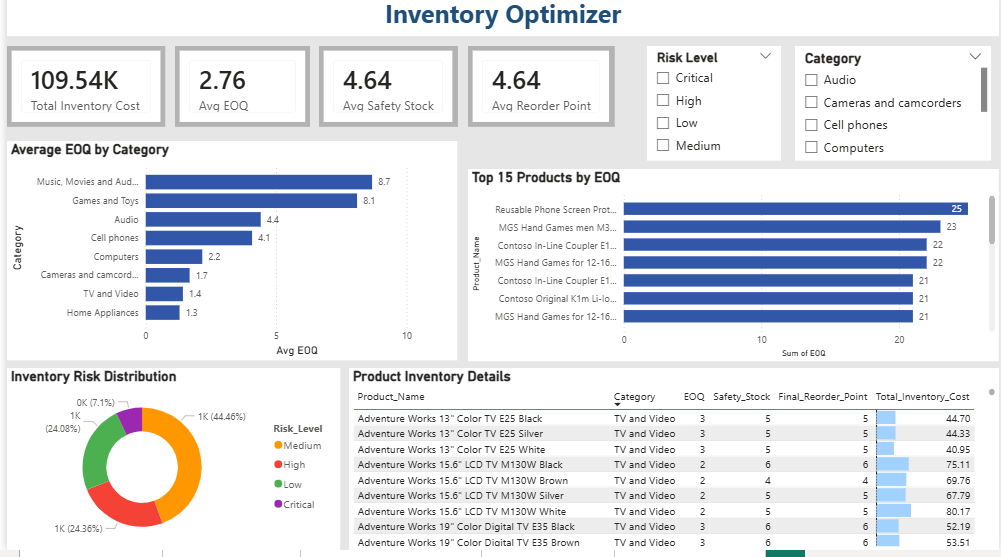

The page's visual inventory and layout, read from the dashboard file:
{"tool":"powerbi","page":{"name":"Inventory Optimizer","canvas":[1280,720],"ordinal":4},"visuals":[{"type":"textbox","box":[0,0,1280,57.1],"z":0},{"type":"cardVisual","fields":{"Data":["_Measures.Total Inventory Cost"]},"box":[0,70,204.3,104.3],"z":1000},{"type":"cardVisual","fields":{"Data":["_Measures.Avg EOQ"]},"box":[217.1,70,174.3,104.3],"z":2000},{"type":"cardVisual","fields":{"Data":["_Measures.Avg Safety Stock"]},"box":[402.9,70,178.6,104.3],"z":3000},{"type":"cardVisual","fields":{"Data":["_Measures.Avg Reorder Point"]},"box":[594.3,70,188.6,104.3],"z":4000},{"type":"clusteredBarChart","title":"Average EOQ by Category","fields":{"Y":["_Measures.Avg EOQ"],"Category":["inventory_optimizer.Category"]},"box":[0,192.9,581.4,282.9],"z":5000},{"type":"donutChart","title":"Inventory Risk Distribution","fields":{"Category":["inventory_optimizer.Risk_Level"],"Y":["_Measures.Product Count"]},"box":[0,485.2,429.7,234.8],"z":6000},{"type":"clusteredBarChart","title":"Top 15 Products by EOQ","fields":{"Category":["inventory_optimizer.Product_Name"],"Y":["Sum(inventory_optimizer.EOQ)"]},"box":[594.8,218.1,685.2,258.1],"z":7000},{"type":"tableEx","title":"Product Inventory Details","fields":{"Values":["inventory_optimizer.Product_Name","inventory_optimizer.Category","inventory_optimizer.EOQ","inventory_optimizer.Safety_Stock","inventory_optimizer.Final_Reorder_Point","inventory_optimizer.Total_Inventory_Cost"]},"box":[441.3,485.2,838.7,234.8],"z":8000},{"type":"slicer","fields":{"Values":["inventory_optimizer.Category"]},"box":[1004.9,69.4,233.9,138.9],"z":9000},{"type":"slicer","fields":{"Values":["inventory_optimizer.Risk_Level"]},"box":[806.5,69.4,172.9,138.9],"z":10000}]}

Visuals, with their boxes in screenshot pixels (x1, y1, x2, y2), scaled from the page's 1280x720 canvas onto the 1001x557 screenshot:
textbox: Rect(0, 0, 1000, 44)
cardVisual - _Measures.Total Inventory Cost: Rect(0, 54, 160, 135)
cardVisual - _Measures.Avg EOQ: Rect(170, 54, 306, 135)
cardVisual - _Measures.Avg Safety Stock: Rect(315, 54, 455, 135)
cardVisual - _Measures.Avg Reorder Point: Rect(465, 54, 612, 135)
"Average EOQ by Category" clusteredBarChart: Rect(0, 149, 455, 368)
"Inventory Risk Distribution" donutChart: Rect(0, 375, 336, 556)
"Top 15 Products by EOQ" clusteredBarChart: Rect(465, 169, 1000, 368)
"Product Inventory Details" tableEx: Rect(345, 375, 1000, 556)
slicer - inventory_optimizer.Category: Rect(786, 54, 969, 161)
slicer - inventory_optimizer.Risk_Level: Rect(631, 54, 766, 161)
